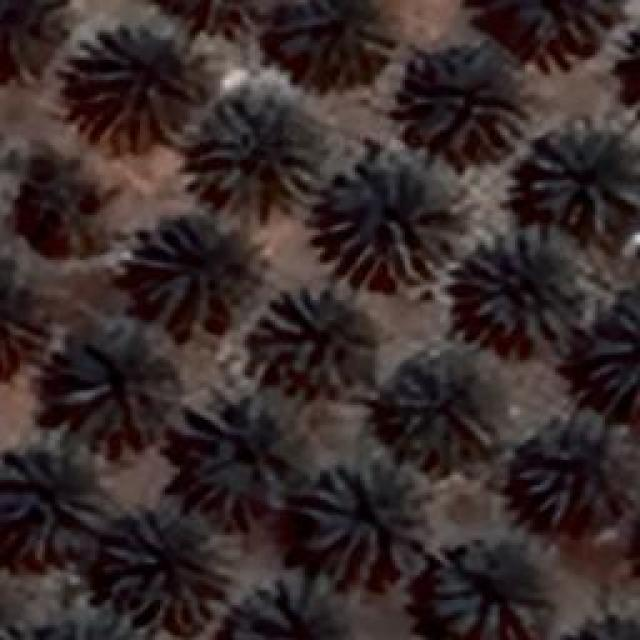PalmTree: (314, 142, 468, 288), (182, 78, 328, 222), (98, 500, 238, 632), (70, 19, 208, 152), (175, 384, 303, 518), (300, 455, 432, 583), (130, 210, 268, 330), (55, 318, 183, 440), (382, 335, 496, 470), (458, 225, 580, 350), (250, 282, 380, 396), (0, 430, 110, 560), (400, 49, 525, 162), (518, 410, 632, 522), (528, 122, 638, 235), (425, 542, 540, 638), (7, 160, 115, 255), (465, 0, 613, 68), (278, 0, 392, 88), (230, 570, 352, 635), (0, 257, 55, 387), (0, 0, 74, 87), (582, 298, 638, 412), (160, 0, 278, 46), (0, 601, 137, 639), (560, 590, 638, 638), (609, 34, 640, 112)
